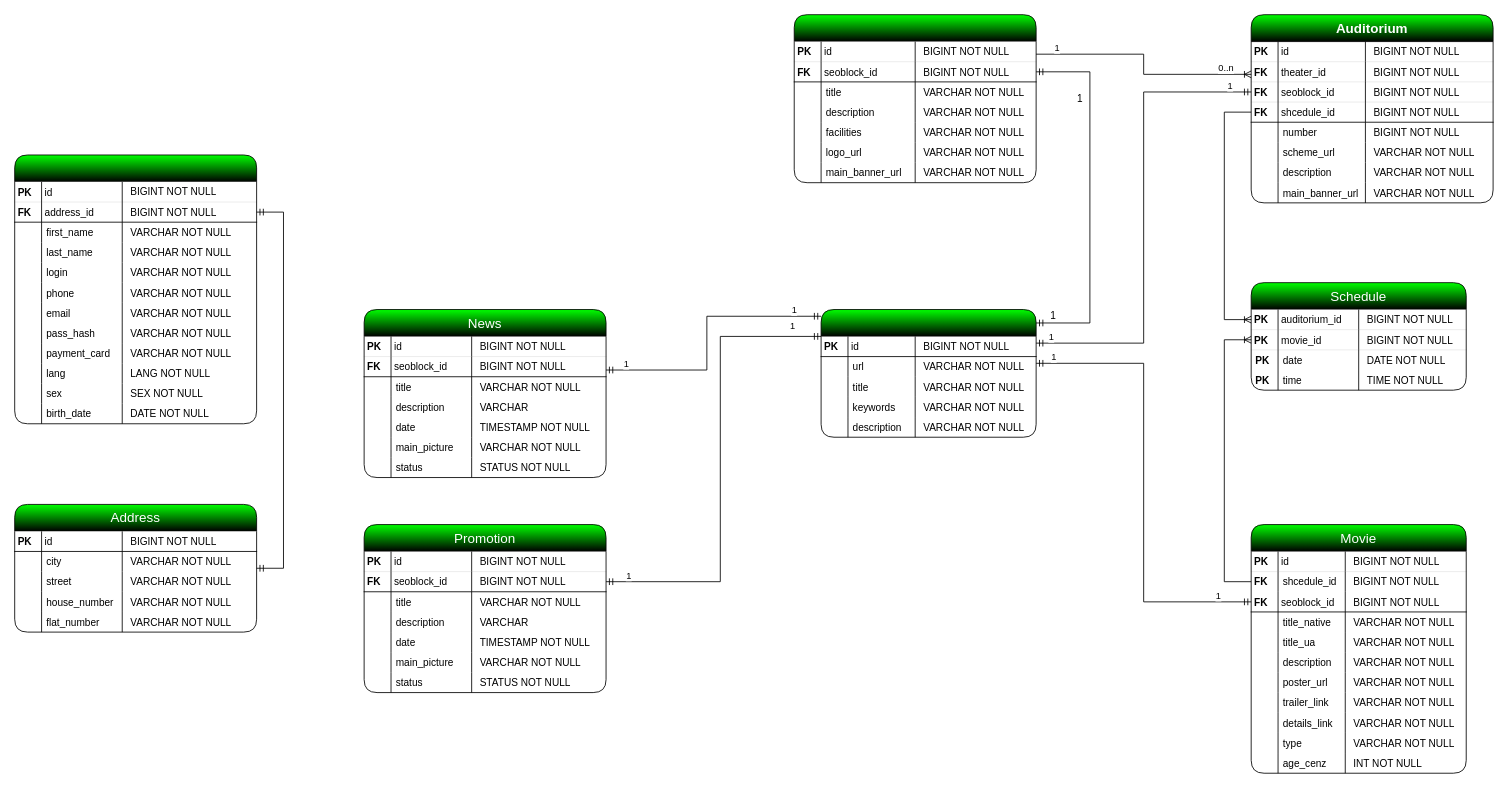
Image size: 1508x788. Some labels were removed from this diagram. Here are the shapes that lost their labels. From the top down, the box of each, then its label:
(793, 14, 1036, 183): Theater
(14, 154, 257, 424): User
(820, 309, 1036, 437): SeoBlock
